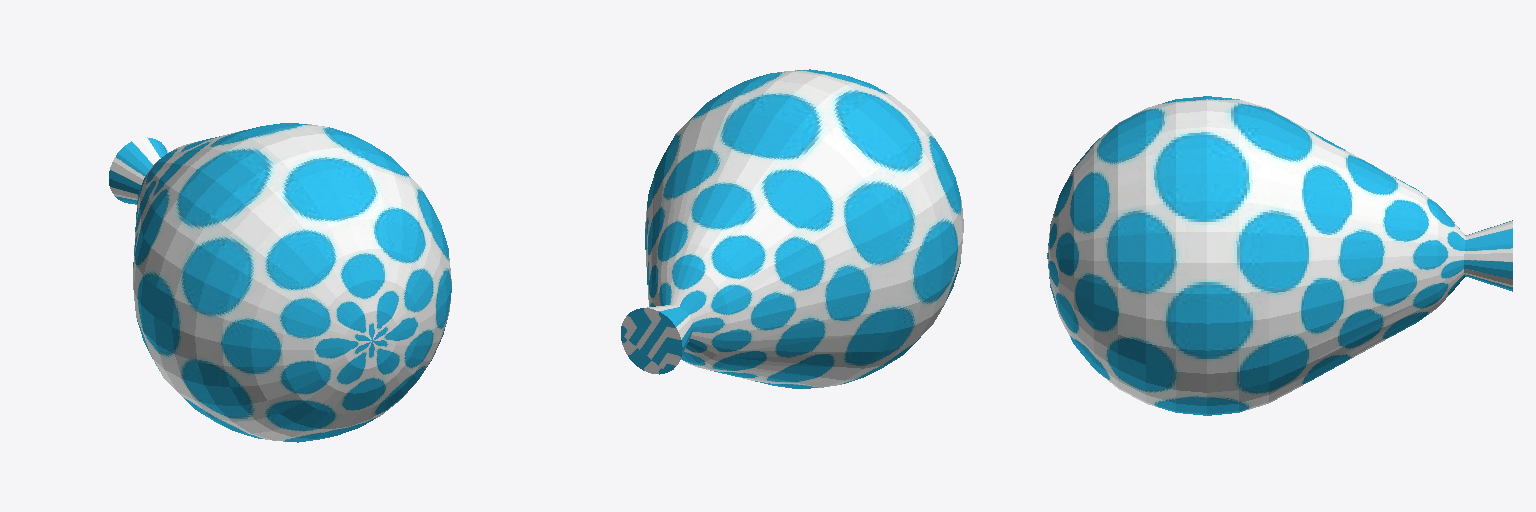
3 views of the same model, side by side, from view 1: azimuth 30°, elevation 25°; view 2: azimuth 150°, elevation 25°; view 3: azimuth 270°, elevation 25° (orthographic).
Visible parts, largest first — view 1: Sphere001; view 2: Sphere001; view 3: Sphere001.
Part boxes in pixels (x1,y1,x2,y2): Sphere001: (109, 123, 451, 442); Sphere001: (621, 69, 963, 388); Sphere001: (1047, 96, 1512, 415).
Bounding box in the file's own units: 10.54 × 10.54 × 15.33.
Materials: 1 (1 with a texture image).